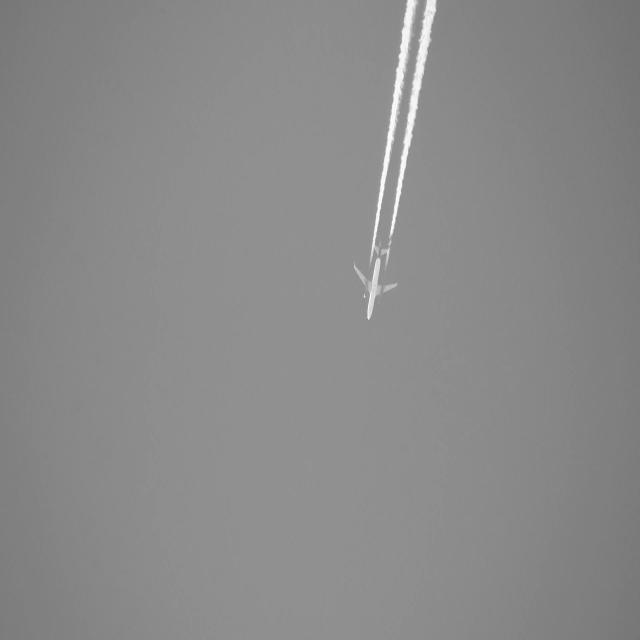aeroplane: (351, 234, 400, 325)
